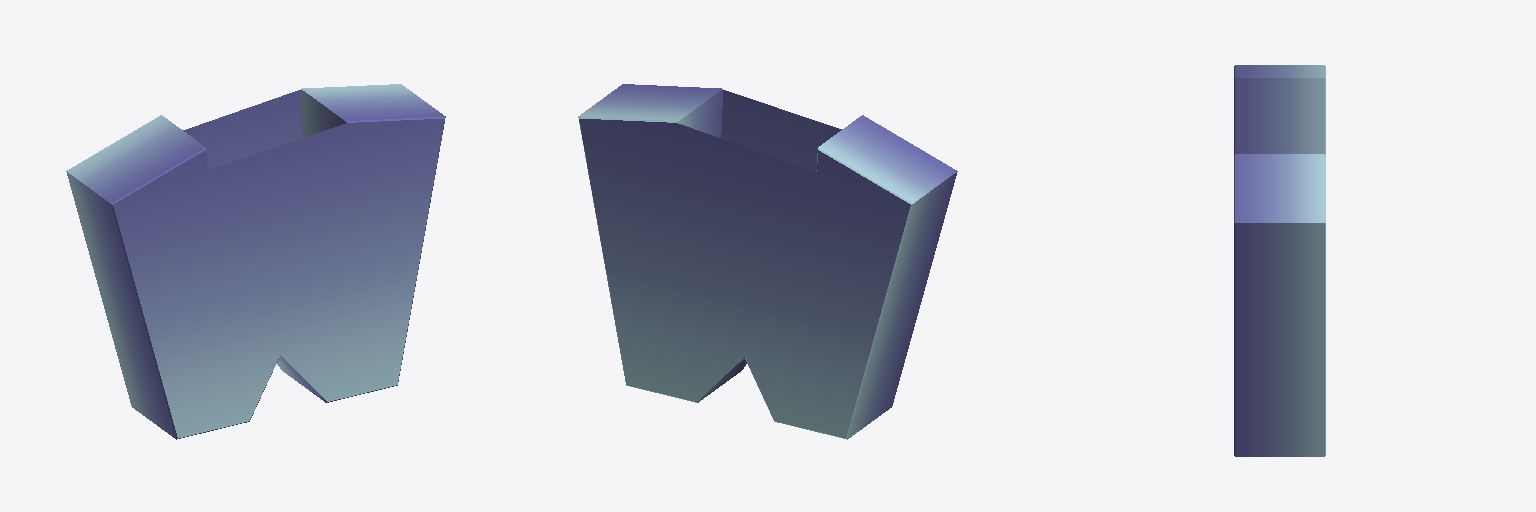
3 views of the same model, side by side, from view 1: azimuth 30°, elevation 25°; view 2: azimuth 150°, elevation 25°; view 3: azimuth 270°, elevation 25° (orthographic).
Parts seen in each view (by area): view 1: polySurface25; view 2: polySurface25; view 3: polySurface25.
Boxes of the visible parts, box(x1,y1,x2,y2) form: polySurface25: box(66, 84, 445, 439); polySurface25: box(578, 84, 957, 439); polySurface25: box(1234, 65, 1325, 456).
Bounding box in the file's own units: 2.77 × 2.25 × 0.6578.
Materials: 1 (1 with a texture image).